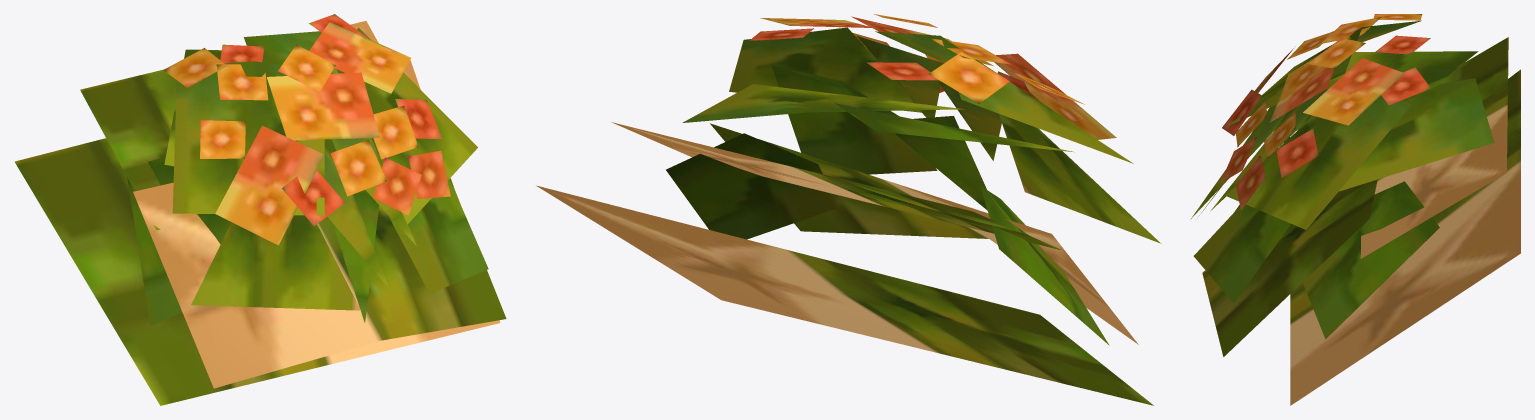
File: fg_bushE_2.dae
3 renders of one model, left to right at view 1: azimuth 30°, elevation 25°; view 2: azimuth 150°, elevation 25°; view 3: azimuth 270°, elevation 25°, orthographic. The views are drawn at different scales.
Visible parts, largest first — view 1: fg_bushE_2; view 2: fg_bushE_2; view 3: fg_bushE_2.
Part boxes in pixels (x1,y1,x2,y2): fg_bushE_2: (15, 14, 506, 405); fg_bushE_2: (536, 14, 1161, 405); fg_bushE_2: (1190, 14, 1520, 405).
Size of the model in its own units: 50.84 by 35.63 by 37.63.
Materials: 1 (1 with a texture image).
